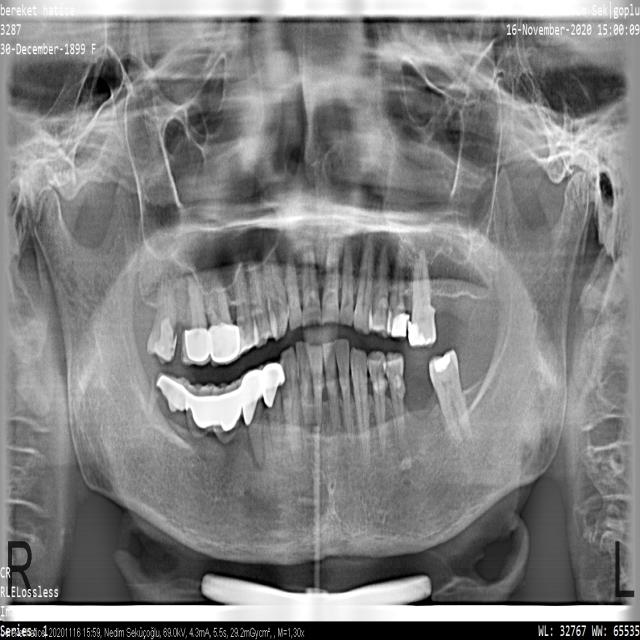Canine: (263, 223, 289, 340), (280, 347, 300, 465), (353, 234, 375, 334), (351, 348, 369, 467)
Incisores: (302, 230, 321, 326), (335, 339, 352, 441), (305, 342, 324, 432), (296, 343, 315, 425), (322, 342, 339, 432), (322, 241, 340, 325), (287, 243, 304, 330), (339, 236, 353, 327)
Premolars: (234, 255, 260, 355), (260, 363, 285, 462), (248, 247, 272, 347), (383, 352, 406, 455), (240, 371, 264, 467), (368, 238, 391, 338), (367, 351, 388, 455), (387, 236, 406, 340)
molars: (429, 350, 472, 443), (149, 372, 191, 459), (200, 276, 239, 366), (212, 377, 244, 476), (182, 384, 218, 472), (181, 275, 211, 366), (409, 248, 436, 348), (147, 276, 177, 363)
